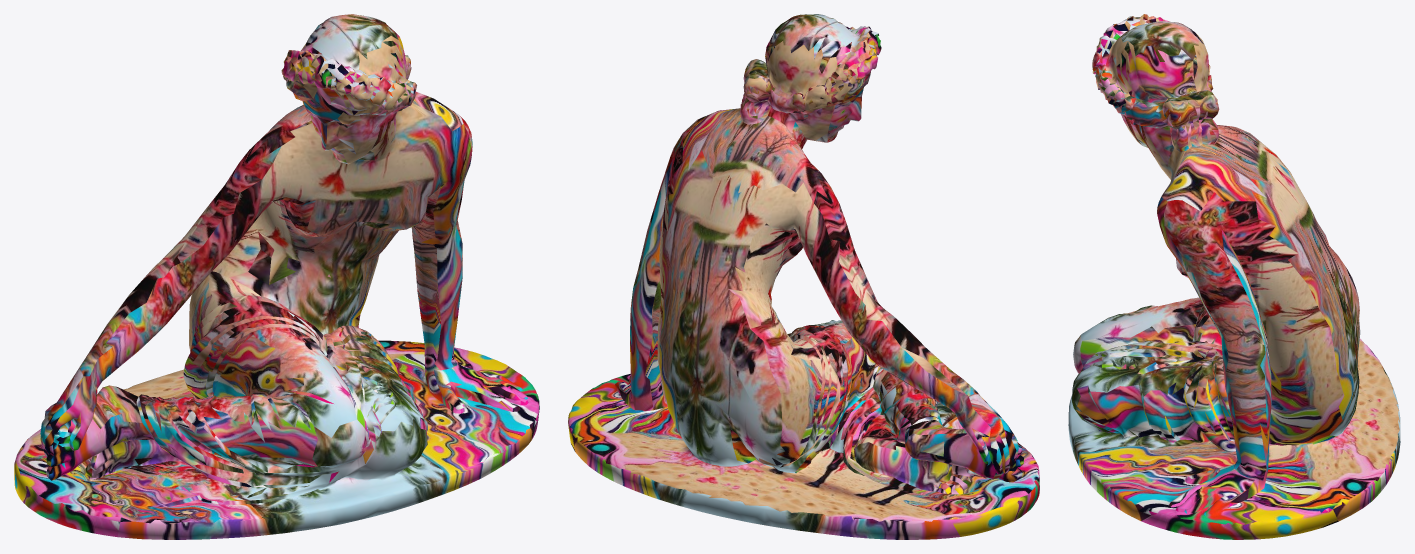
File: tds_la-nymphe-salmacis.glb
3 views of the same model, side by side, from view 1: azimuth 30°, elevation 25°; view 2: azimuth 150°, elevation 25°; view 3: azimuth 270°, elevation 25° (orthographic). The views are drawn at different scales.
Parts seen in each view (by area): view 1: A; view 2: A; view 3: A.
Boxes of the visible parts, bbox=[...] form: A: bbox=[14, 14, 539, 539]; A: bbox=[568, 14, 1039, 539]; A: bbox=[1068, 14, 1400, 539].
Size of the model in its own units: 2 by 1.77 by 1.27.
Materials: 1 (1 with a texture image).
